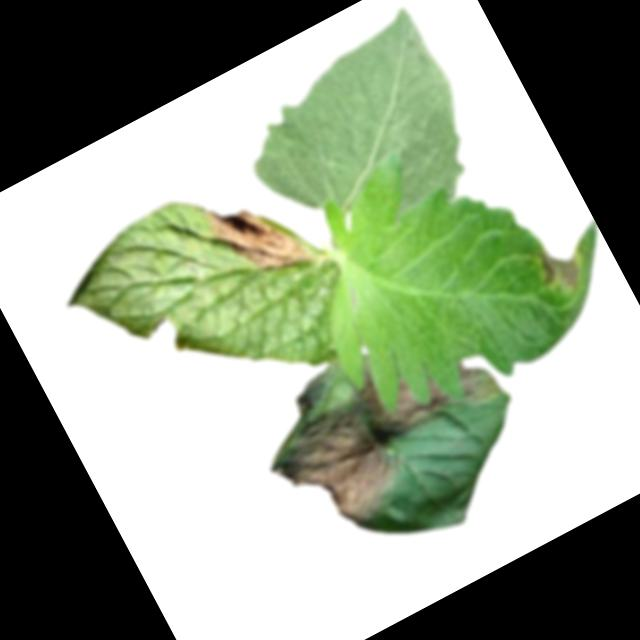Late_blight: (261, 391, 414, 549), (354, 327, 503, 453), (194, 169, 323, 304), (525, 227, 597, 304), (287, 361, 352, 417)
